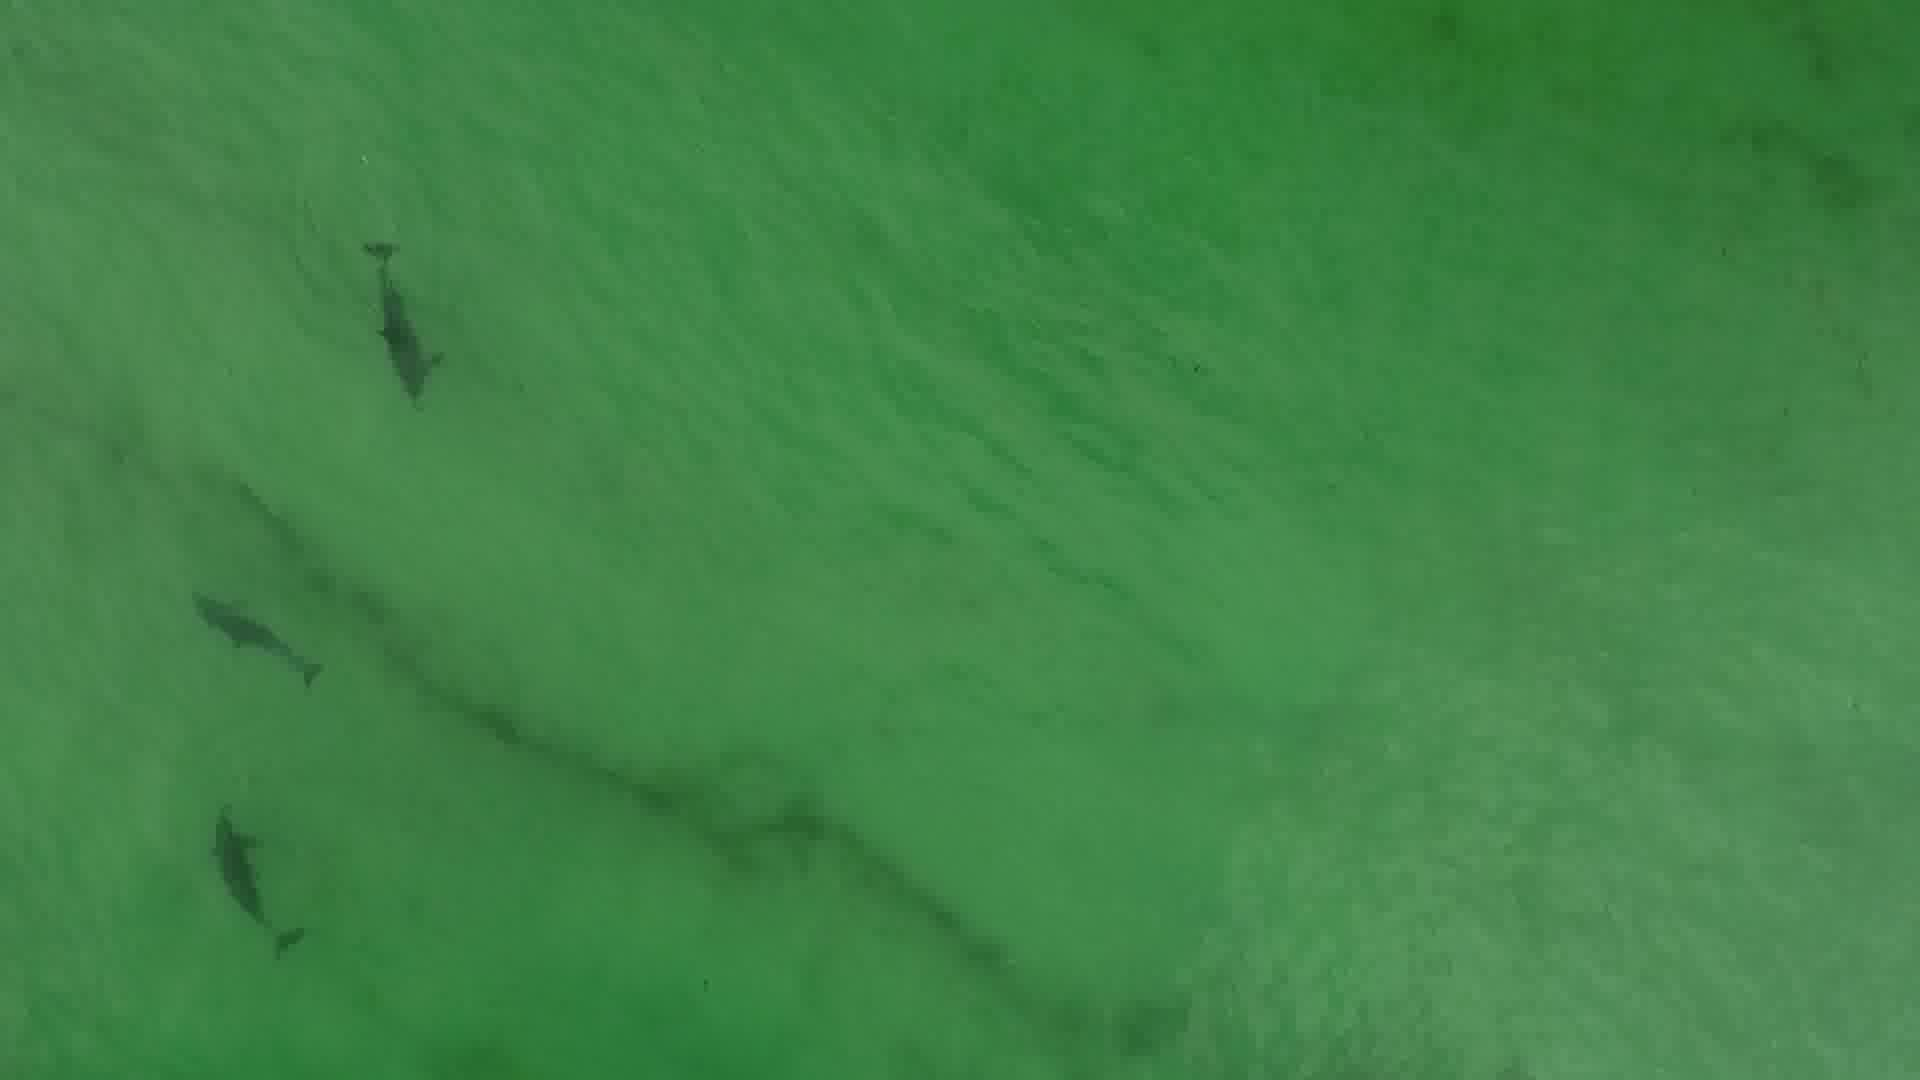dolphin: (328, 218, 455, 425), (161, 559, 340, 702), (193, 783, 305, 977)
